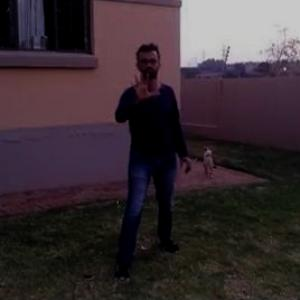follow_hand: (128, 67, 162, 105)
